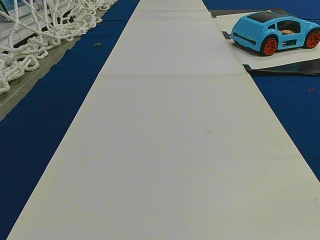car: (230, 11, 319, 54)
